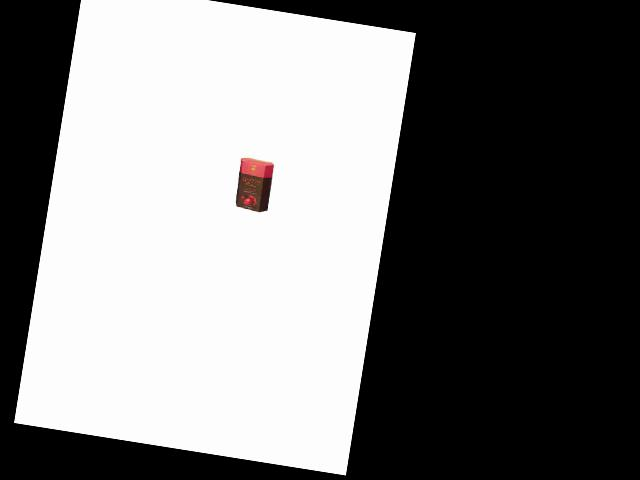chocolate: (232, 154, 276, 218)
